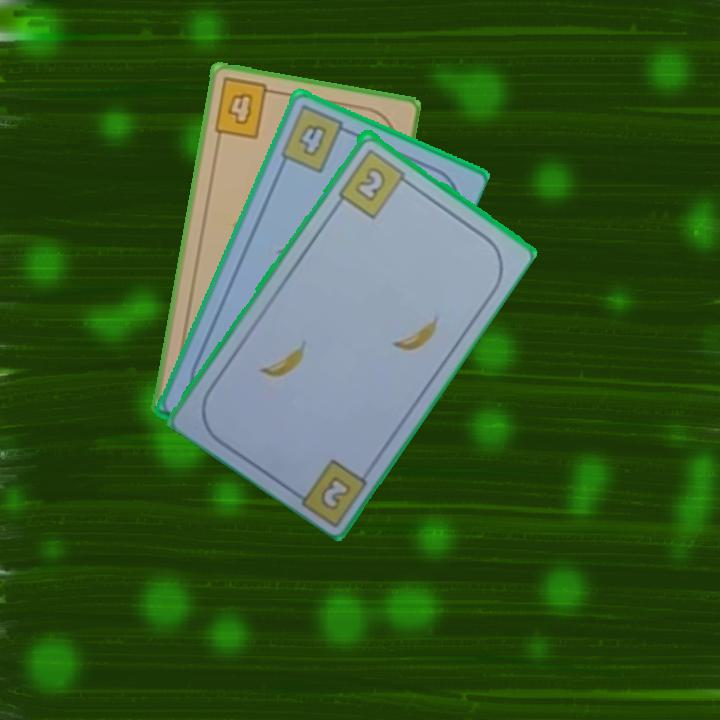2b: (335, 144, 414, 221), (319, 475, 351, 510)
4b: (276, 101, 355, 176), (210, 74, 280, 142)
